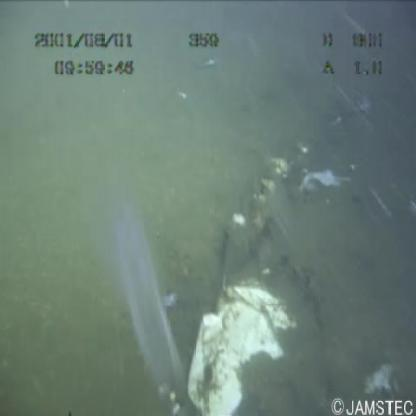Rác: (182, 280, 298, 414)
